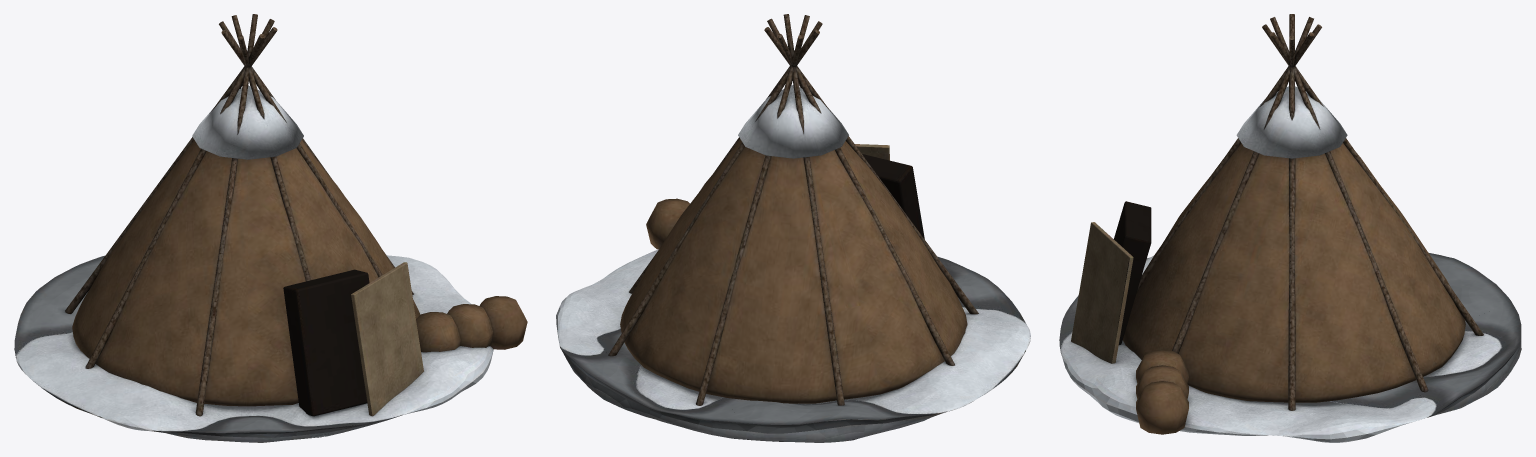
The model's file is geada_tenda_peles.glb.
3 renders of one model, left to right at view 1: azimuth 30°, elevation 25°; view 2: azimuth 150°, elevation 25°; view 3: azimuth 270°, elevation 25°, orthographic.
Visible parts, largest first — view 1: geada_tenda_peles_tronco; view 2: geada_tenda_peles_tronco; view 3: geada_tenda_peles_tronco.
Boxes of the visible parts, bbox=[...] form: geada_tenda_peles_tronco: bbox=[14, 14, 527, 442]; geada_tenda_peles_tronco: bbox=[556, 14, 1030, 442]; geada_tenda_peles_tronco: bbox=[1059, 14, 1521, 442].
Size of the model in its own units: 5.13 by 3.95 by 4.99.
1 material, 1 textured.
